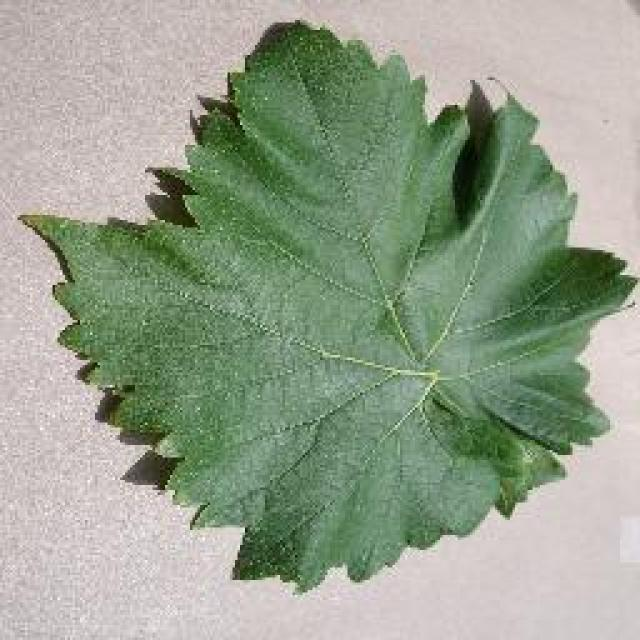Grape___healthy: (22, 22, 632, 590)
